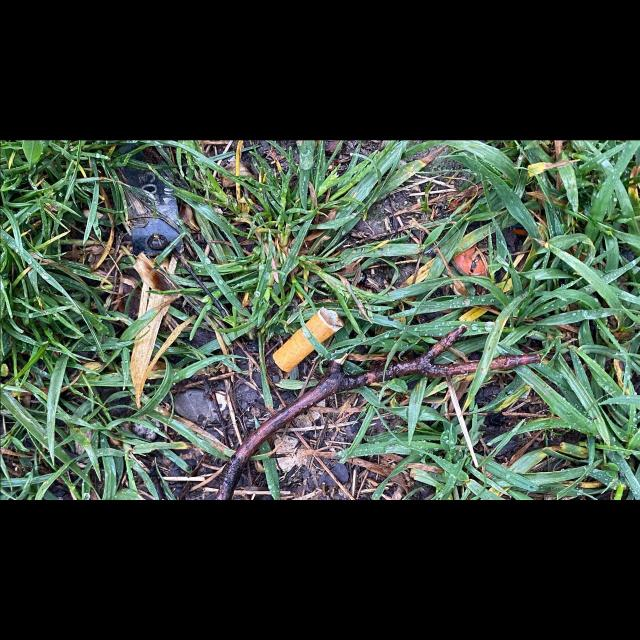cigarette: (272, 306, 345, 372)
